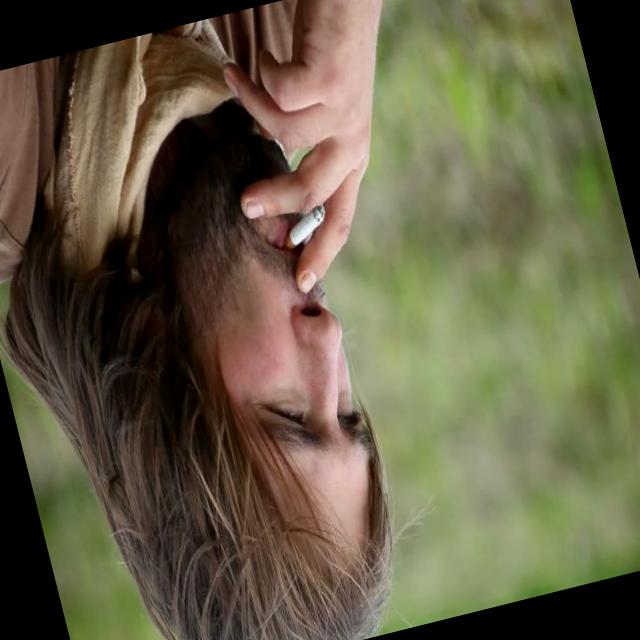cigarette: (270, 194, 343, 270)
